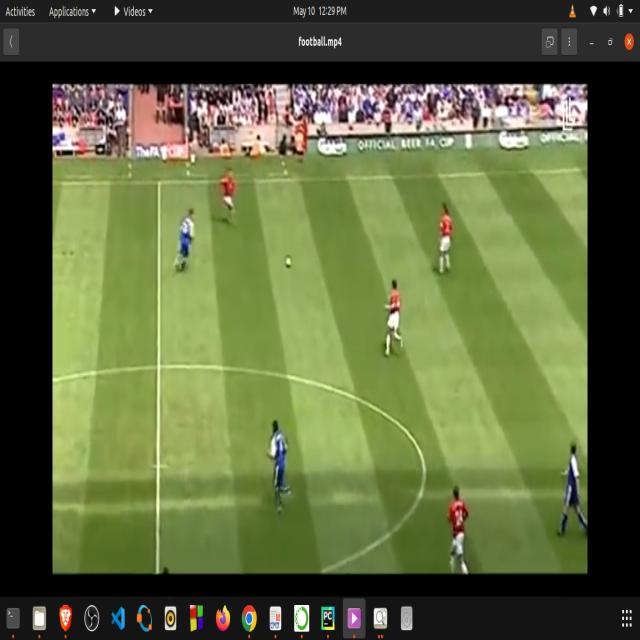Ball: (278, 252, 297, 278)
football-players: (262, 416, 302, 526), (379, 277, 415, 367), (445, 486, 478, 574), (564, 434, 590, 536), (170, 203, 202, 281), (216, 163, 247, 237), (438, 195, 458, 279)
